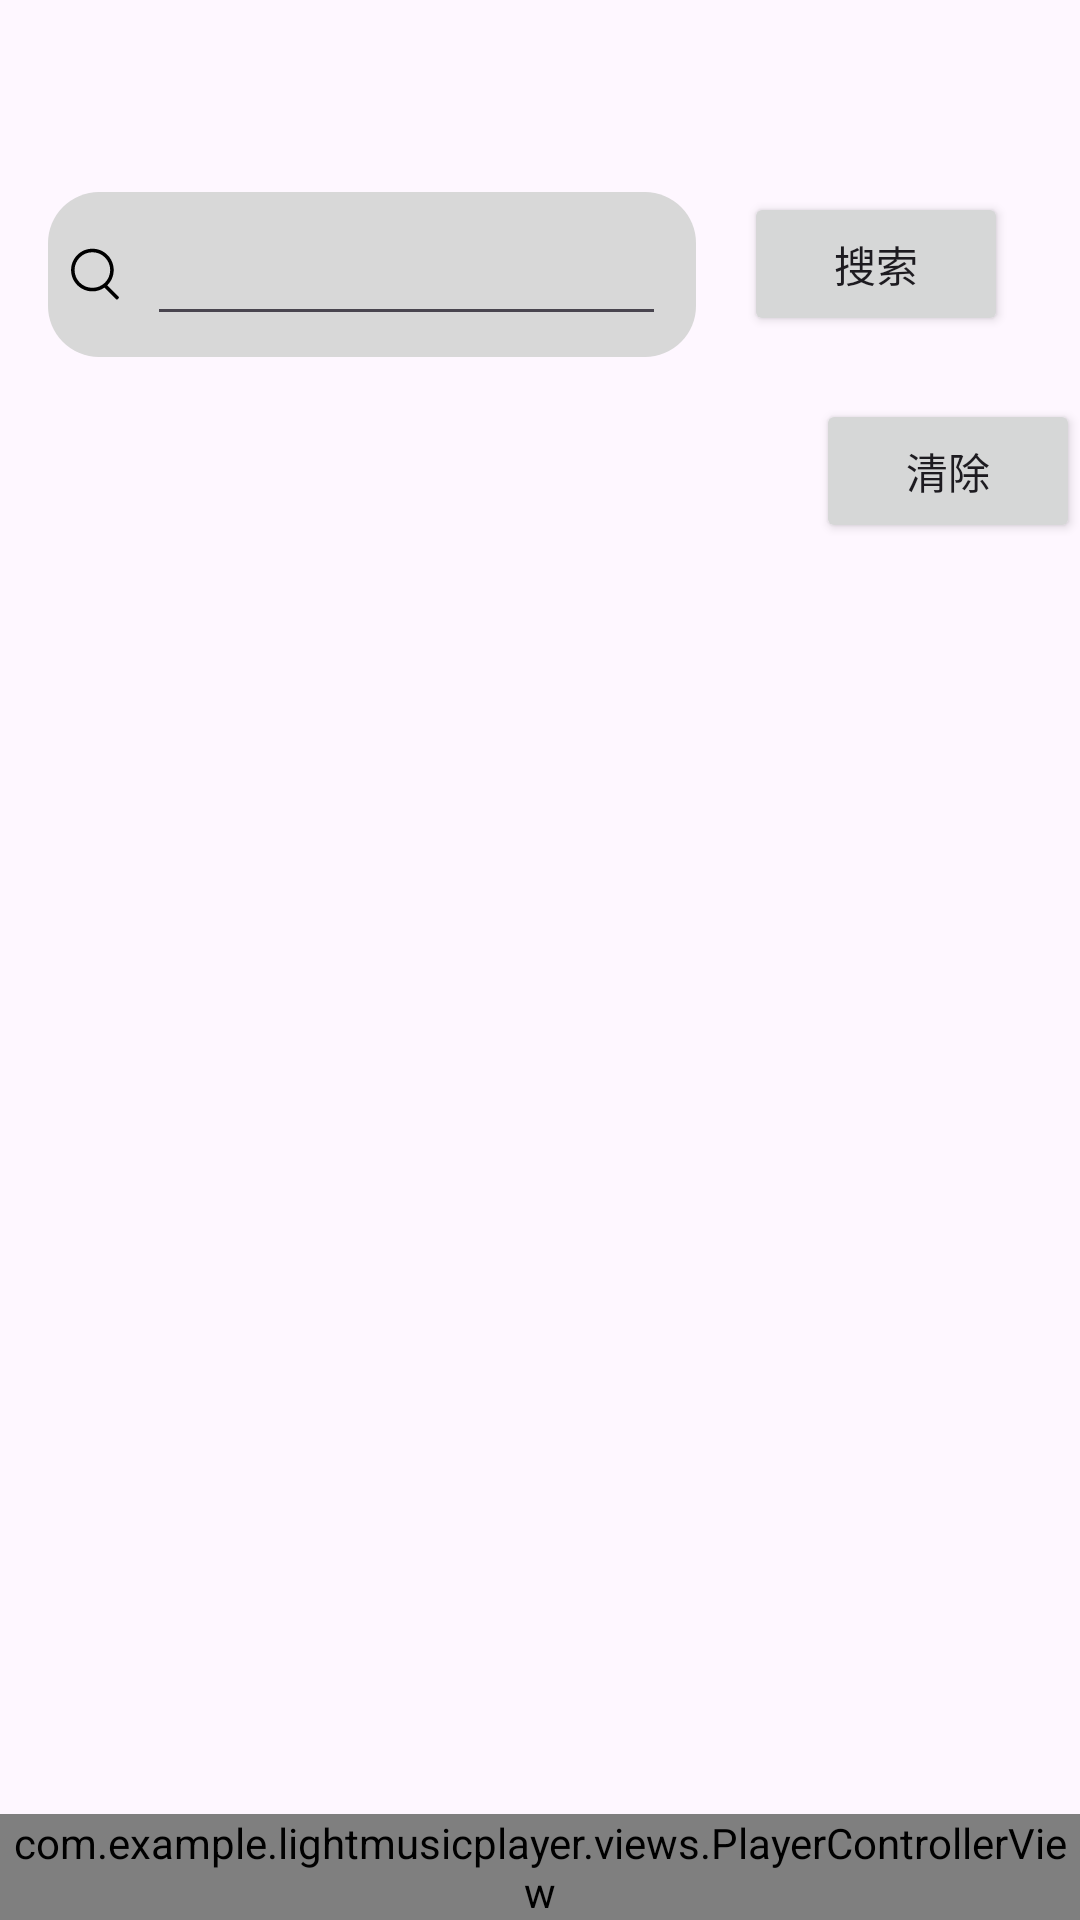

Screen size 1080 x 1920. Icon name, then its center in pixels as (x,y):
search: (95,274)
